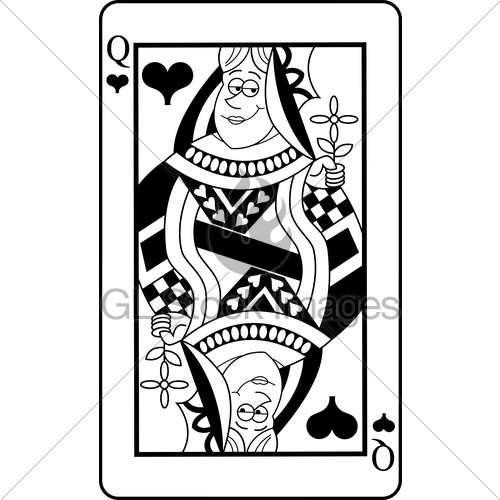queen of clubs: (99, 4, 405, 500)
